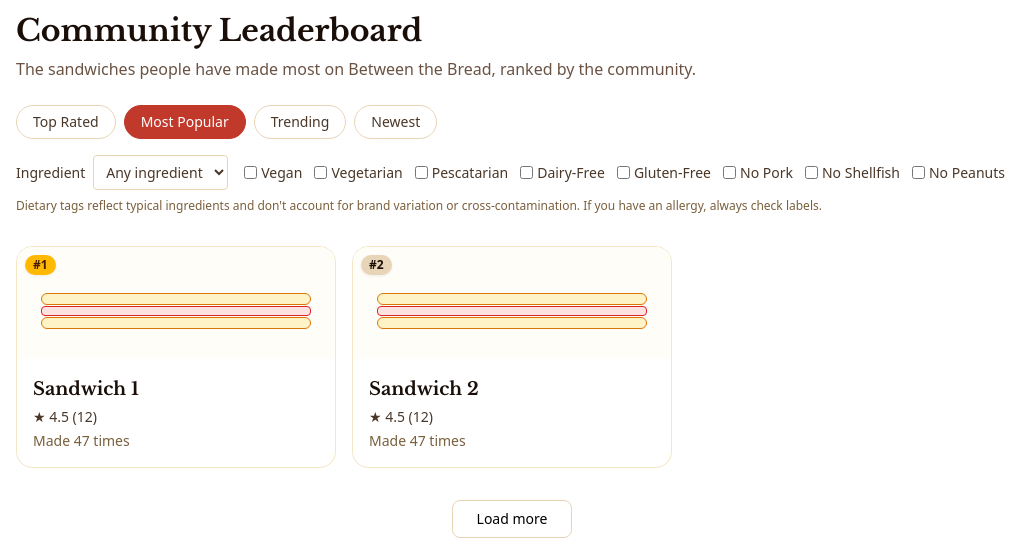
CommunityIndex paging and errors › loads more sandwiches after the first 24
The image size is (1025, 555).
expect the heading "Sandwich 1" is shown: met, box [33,378,139,400]
Click the button "Load more" at (512, 519), box [452,500,572,538]
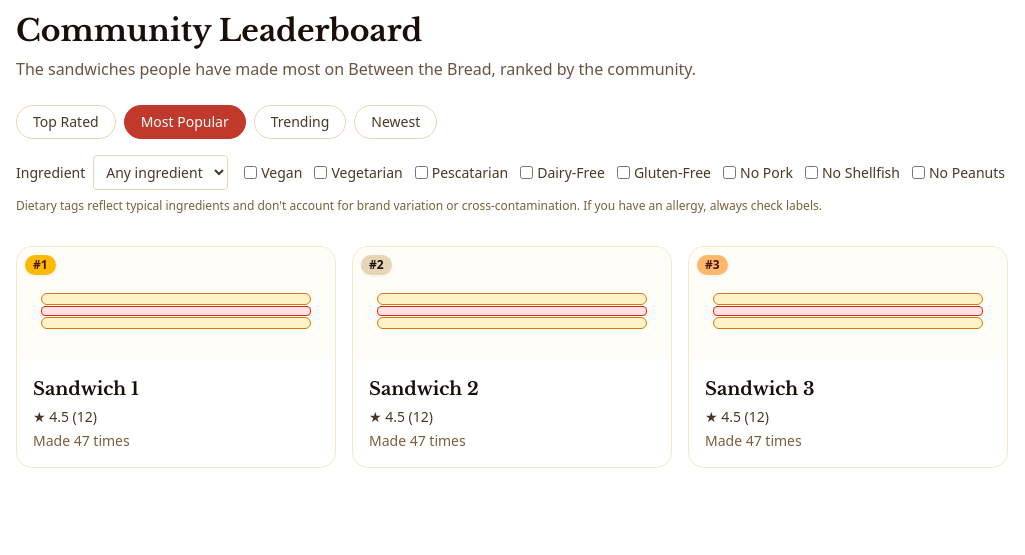
expect the heading "Sandwich 3" is shown: met, box [705,378,814,400]
expect the button "Load more" is gone: met
